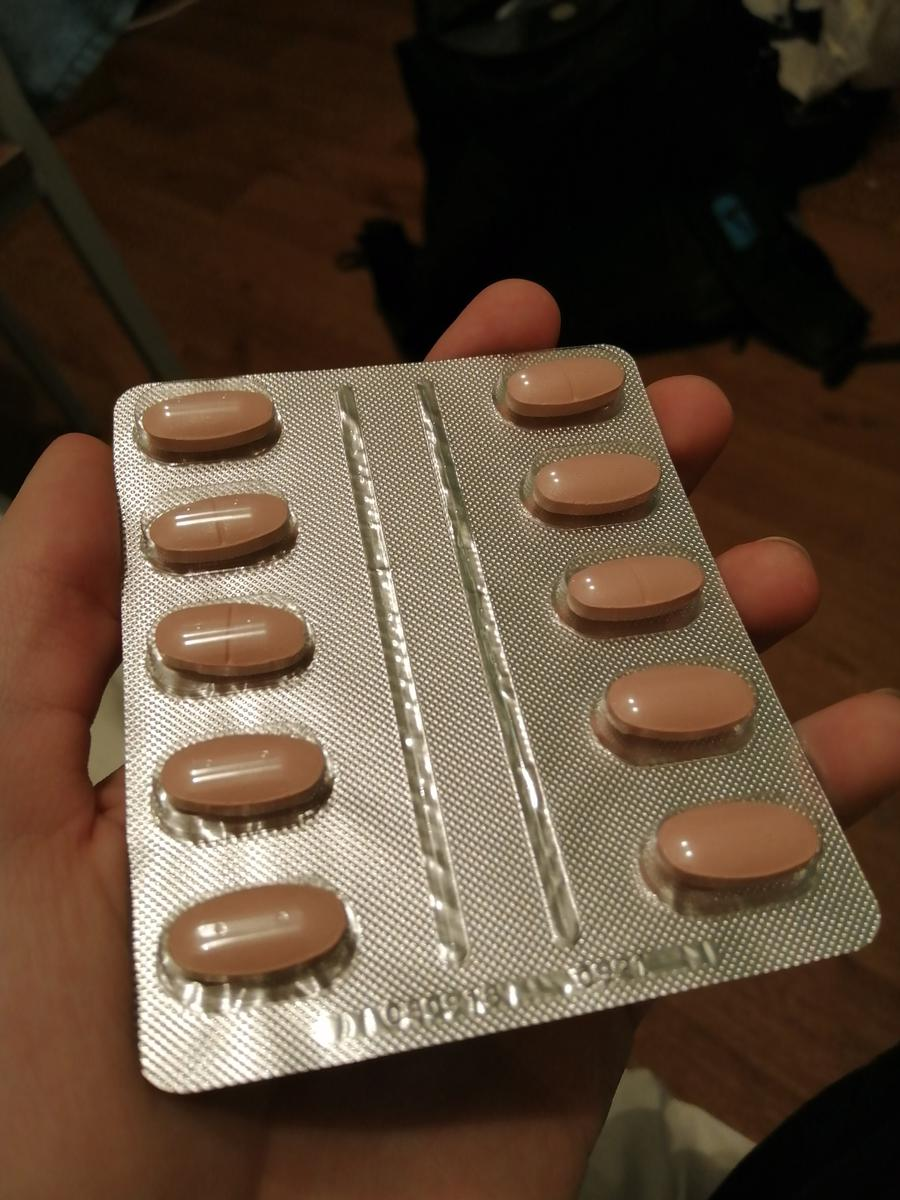tablet: (163, 876, 356, 981), (651, 795, 829, 890), (160, 728, 329, 819), (598, 664, 760, 742), (144, 487, 296, 569), (156, 600, 317, 676), (556, 545, 710, 619), (527, 442, 656, 519), (141, 387, 284, 450), (499, 347, 625, 414)
